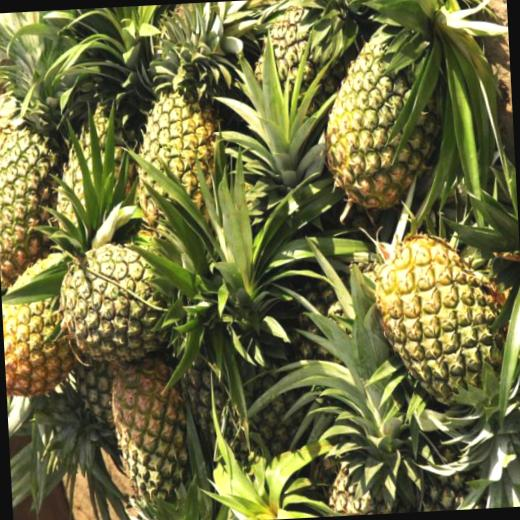Mango: (0, 0, 520, 520), (52, 199, 187, 386)
